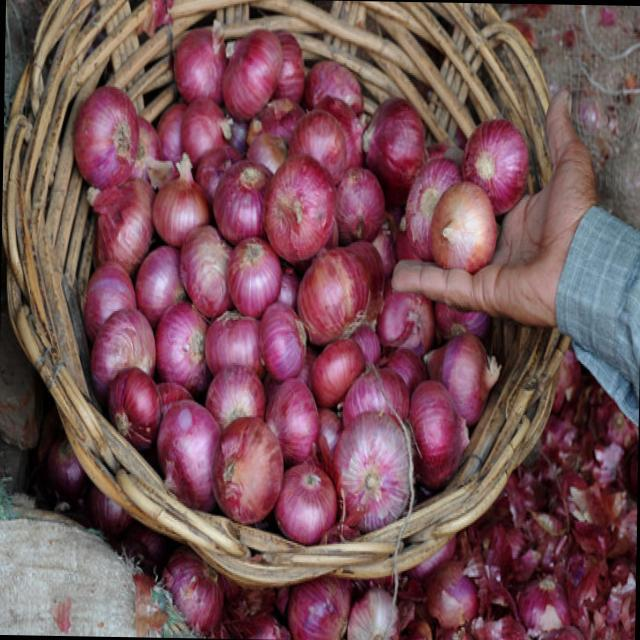ONIONS: (334, 416, 418, 526), (298, 250, 384, 334), (268, 155, 336, 257), (70, 81, 144, 174), (216, 422, 280, 520), (218, 149, 274, 252), (162, 403, 210, 515), (413, 378, 468, 472), (278, 452, 336, 538), (432, 338, 502, 408), (92, 182, 155, 256), (337, 364, 405, 422), (103, 310, 153, 387), (376, 291, 436, 349), (89, 258, 135, 325)
